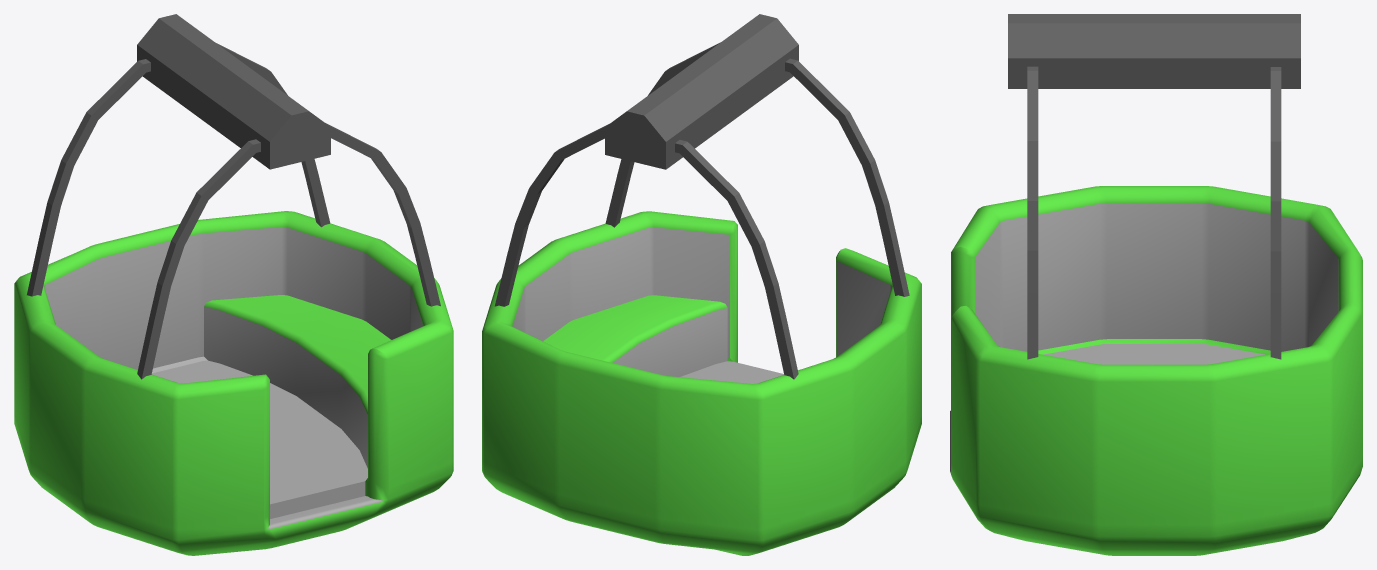
File: cabGreen.fbx
3 views of the same model, side by side, from view 1: azimuth 30°, elevation 25°; view 2: azimuth 150°, elevation 25°; view 3: azimuth 270°, elevation 25° (orthographic). The views are drawn at different scales.
Parts seen in each view (by area): view 1: Cab Green; view 2: Cab Green; view 3: Cab Green.
Boxes of the visible parts, box(x1,y1,x2,y2) form: Cab Green: box(14, 14, 453, 555); Cab Green: box(482, 14, 921, 555); Cab Green: box(950, 14, 1362, 555).
Size of the model in its own units: 245 by 223 by 279.
